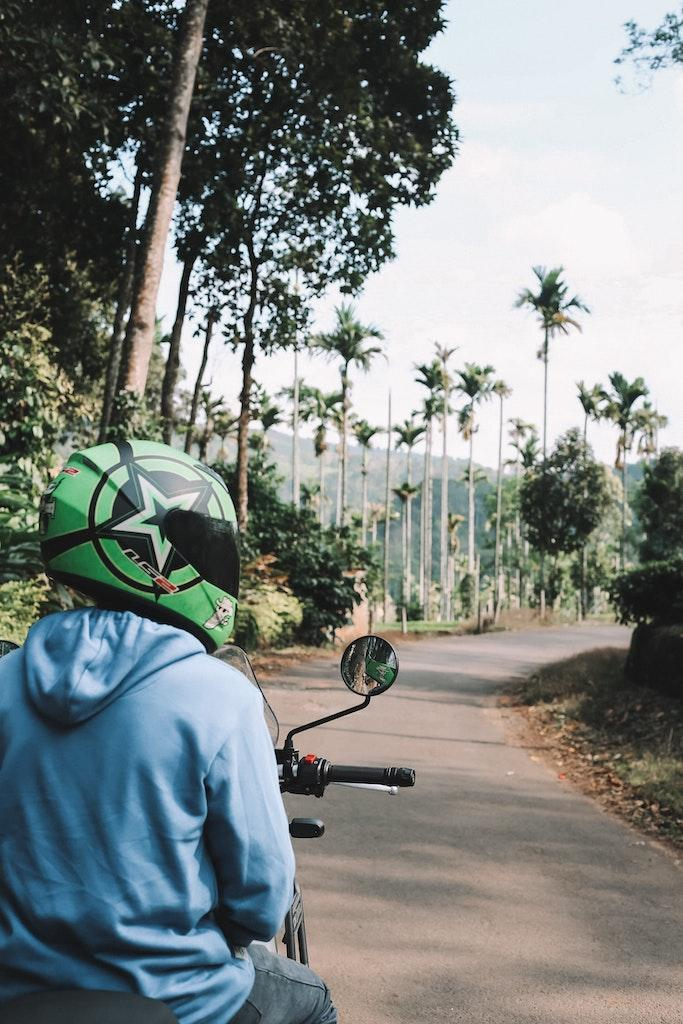helmet: (38, 438, 243, 660)
